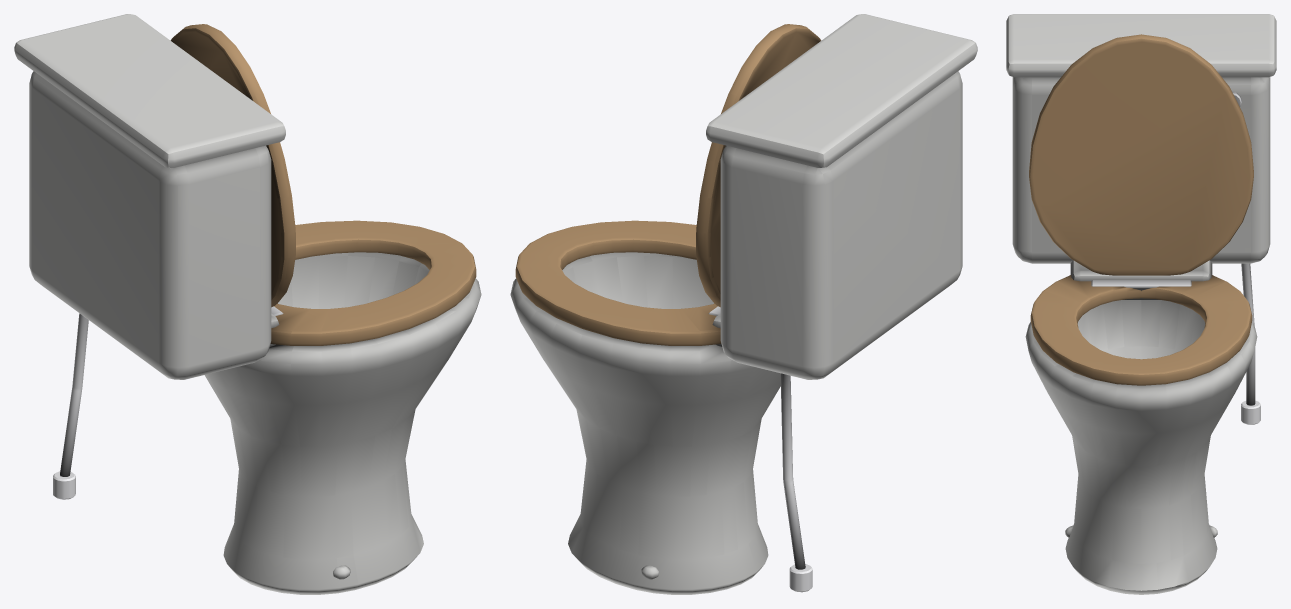
Rendered from seat_toilet.glb.
3 views of the same model, side by side, from view 1: azimuth 30°, elevation 25°; view 2: azimuth 150°, elevation 25°; view 3: azimuth 270°, elevation 25° (orthographic). The views are drawn at different scales.
Visible parts, largest first — view 1: PART, LID; view 2: PART, LID; view 3: PART, LID.
Part boxes in pixels (x1=…): PART: x1=14, y1=14, x2=481, y2=594; LID: x1=170, y1=24, x2=295, y2=307; PART: x1=510, y1=14, x2=977, y2=594; LID: x1=696, y1=24, x2=821, y2=307; PART: x1=1006, y1=14, x2=1276, y2=594; LID: x1=1029, y1=34, x2=1253, y2=275.
Bounding box in the file's own units: 0.5876 × 0.8199 × 0.42.
